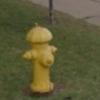a fire hydrant: (21, 24, 59, 96)
